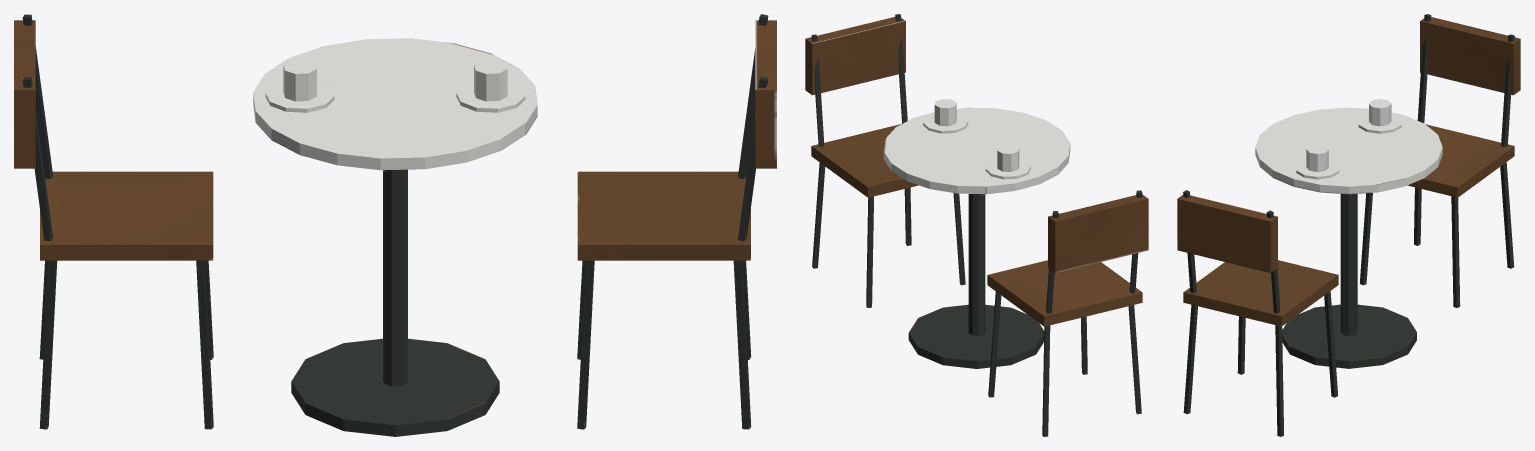
Rendered from stolek_kavarna_3c93aa8c.glb.
3 views of the same model, side by side, from view 1: azimuth 30°, elevation 25°; view 2: azimuth 150°, elevation 25°; view 3: azimuth 270°, elevation 25° (orthographic). The views are drawn at different scales.
Visible parts, largest first — view 1: dum; view 2: dum; view 3: dum.
Part boxes in pixels (x1=…): dum: x1=14, y1=14, x2=776, y2=436; dum: x1=805, y1=14, x2=1148, y2=436; dum: x1=1177, y1=14, x2=1520, y2=436.
Size of the model in its own units: 1.71 by 0.8798 by 1.21.
1 material, 1 textured.
